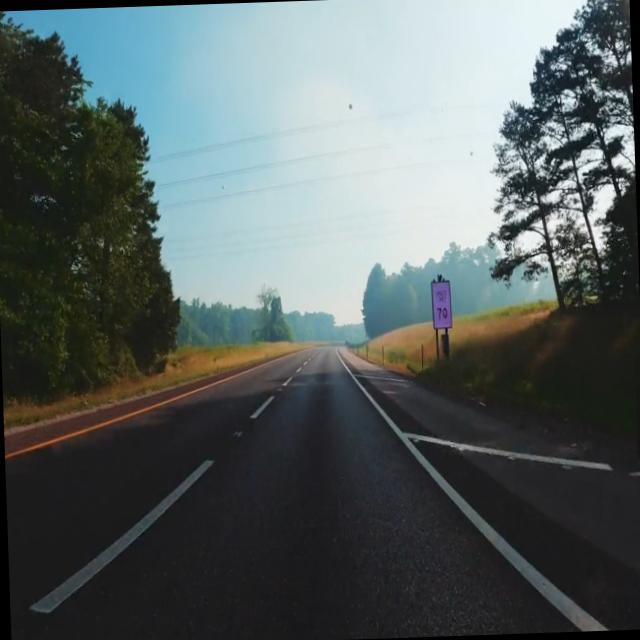asphalt: (5, 346, 640, 640)
